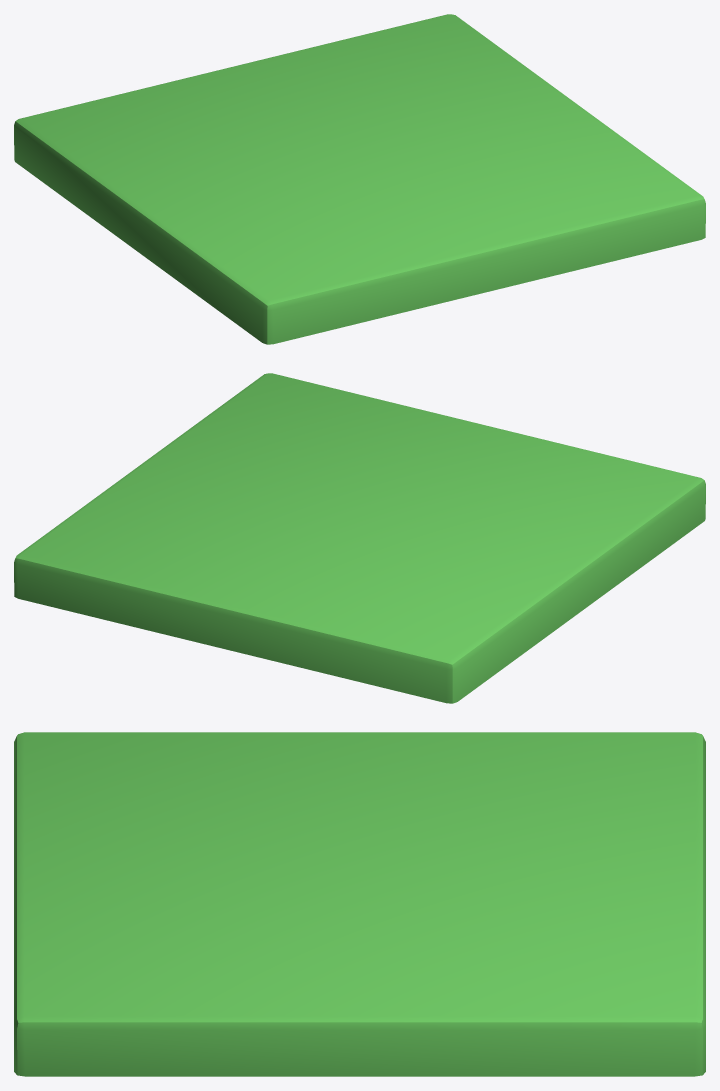
Rendered from Platform_P3_Green_Moving.fbx.
3 renders of one model, top to bottom at view 1: azimuth 30°, elevation 25°; view 2: azimuth 150°, elevation 25°; view 3: azimuth 270°, elevation 25°, orthographic. The views are drawn at different scales.
Visible parts, largest first — view 1: Platform_P3_Green_Moving; view 2: Platform_P3_Green_Moving; view 3: Platform_P3_Green_Moving.
Boxes of the visible parts, box(x1,y1,x2,y2) form: Platform_P3_Green_Moving: box(14, 14, 705, 344); Platform_P3_Green_Moving: box(14, 373, 705, 703); Platform_P3_Green_Moving: box(14, 732, 705, 1076).
Bounding box in the file's own units: 2 × 0.43 × 2.
